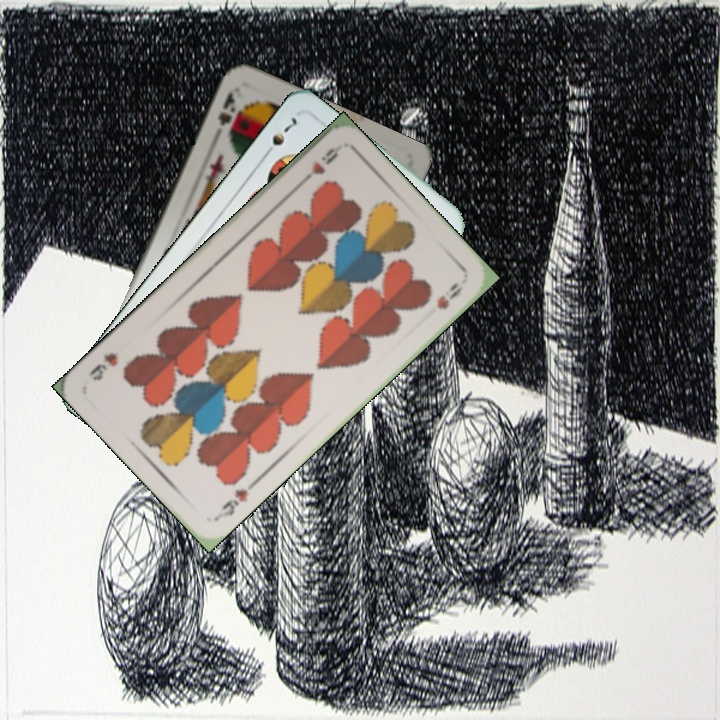H9: (294, 143, 342, 189), (211, 477, 259, 523)
S7: (258, 113, 300, 161)
SK: (209, 87, 242, 140)
